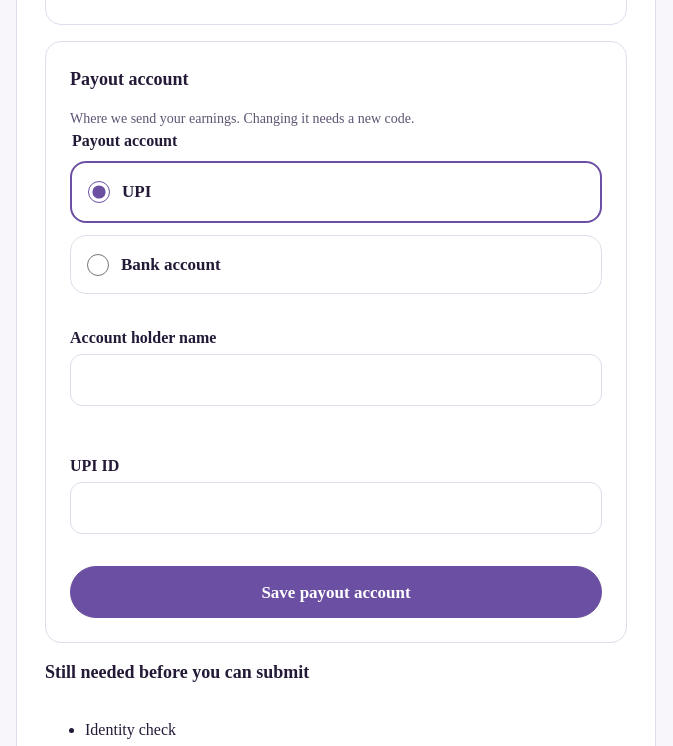
Test case: OnboardingView (J1) › PO-06 saves UPI payout details and shows only the hint afterwards
The image size is (673, 746).
(page scrolled)
In the field labelled "Account holder name": (336, 380) [70,354,602,406], type "Synthetic"
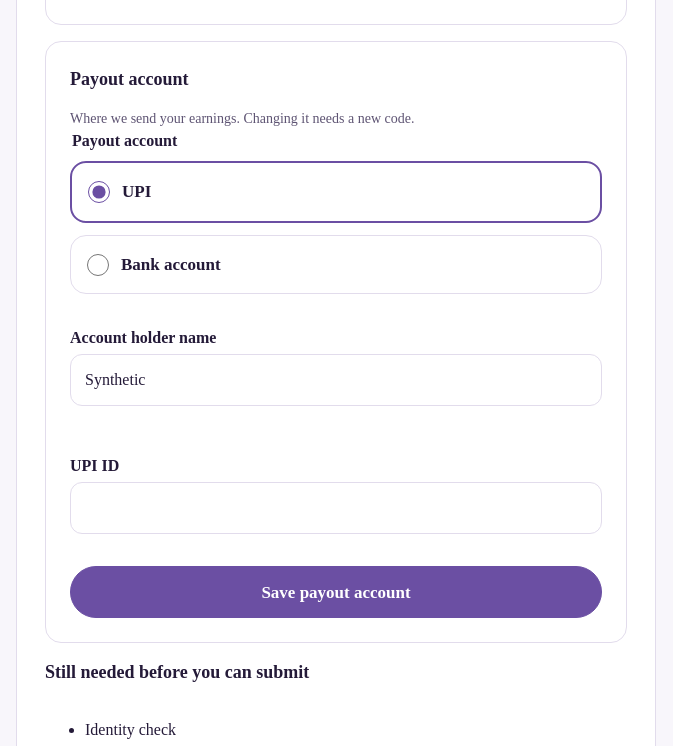
In the field labelled "UPI ID": (336, 508) [70,482,602,534], type "synthetic@okbank"
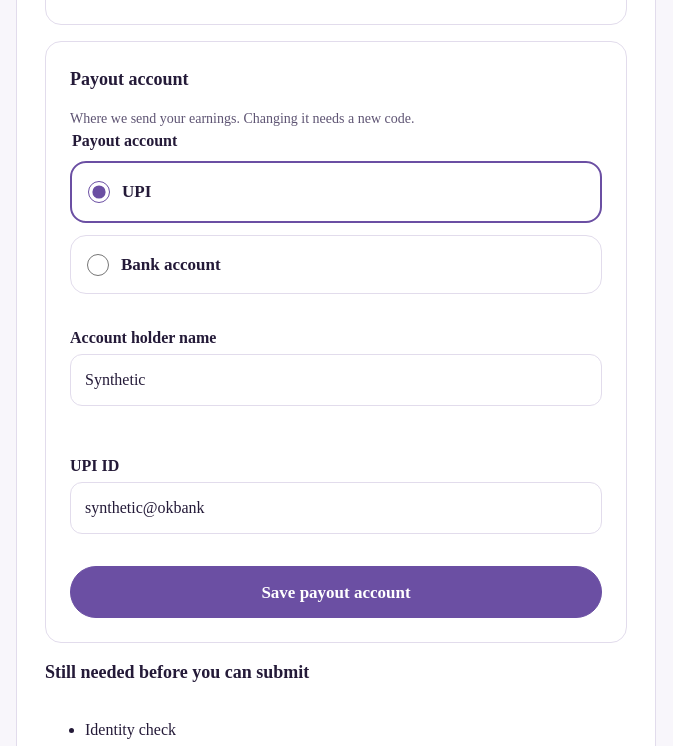
Click the button "Save payout account": (336, 592) [70,566,602,618]
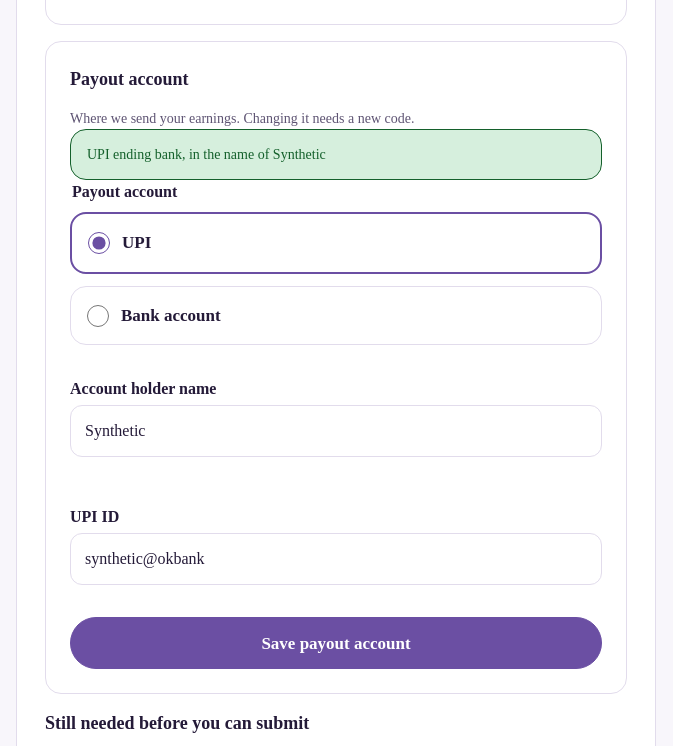
Result: the text "UPI ending bank, in the name of Synthetic" is shown at [87,144,326,165]
Click the radio button labelled "Bank account": (98, 316) [87,305,109,327]
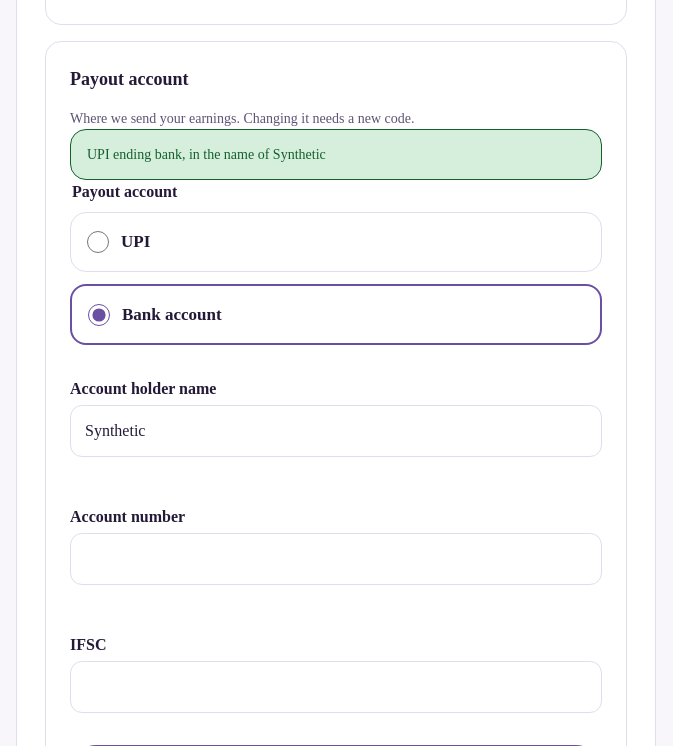
Result: the field labelled "IFSC" is shown at [70,661,602,713]
